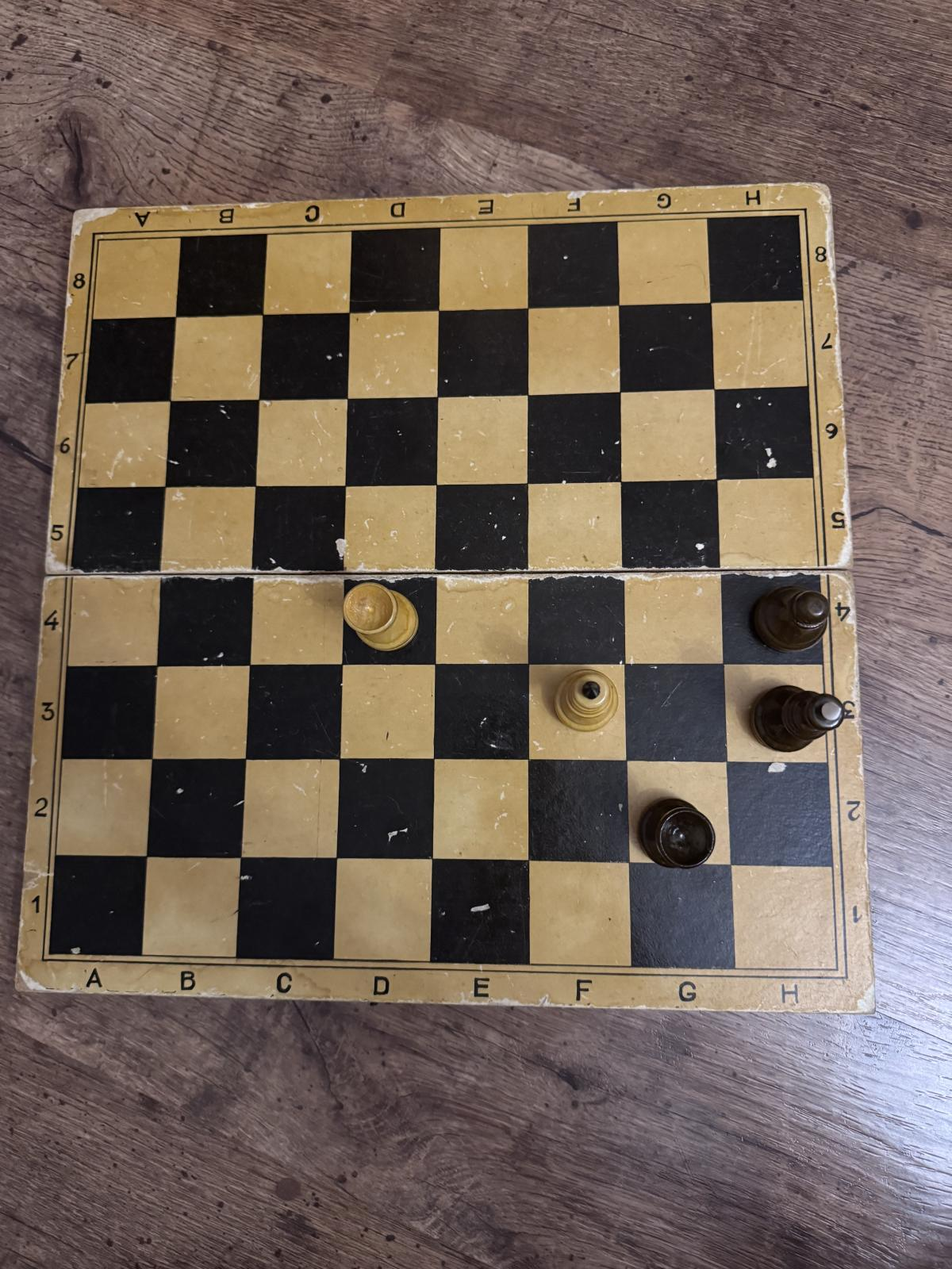Chess-Board: (49, 215, 837, 969)
